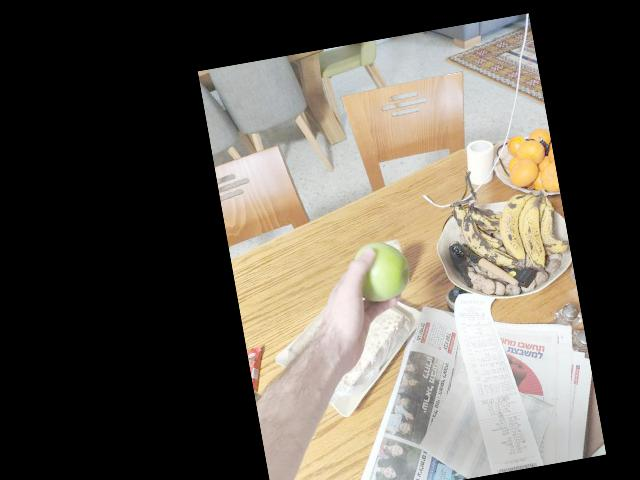apple: (341, 234, 412, 312)
